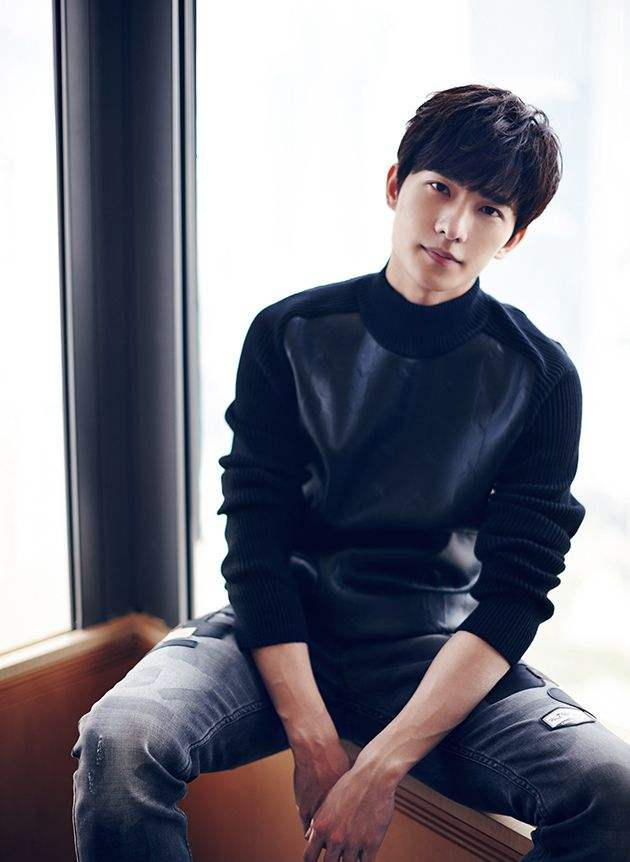person: (215, 85, 630, 779)
